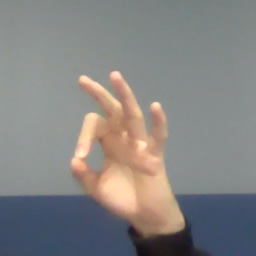O: (65, 69, 185, 215)
